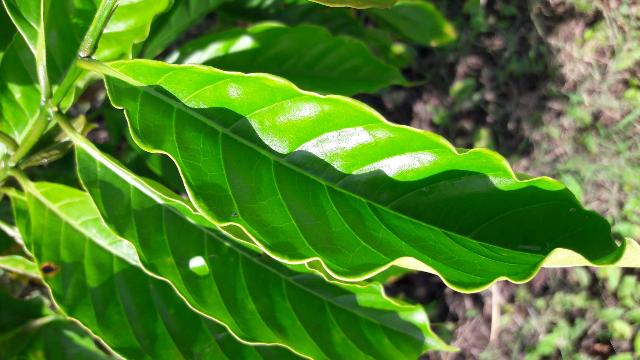healthy: (103, 58, 614, 291)
